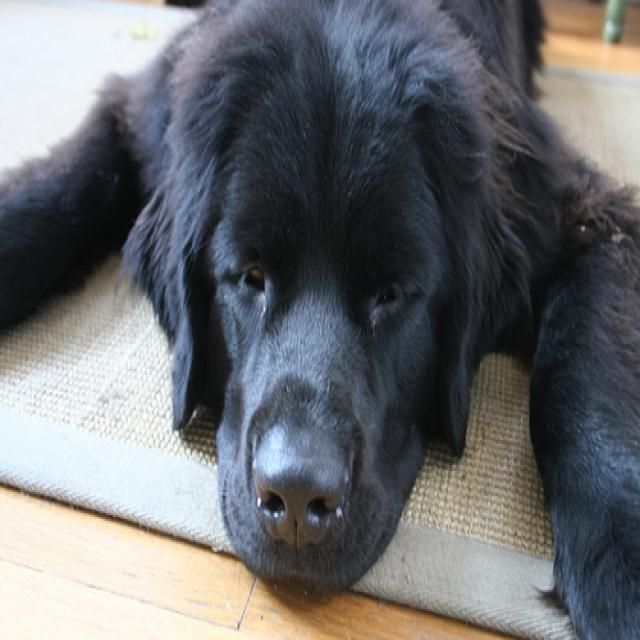dog-newfoundland: (1, 2, 637, 636)
